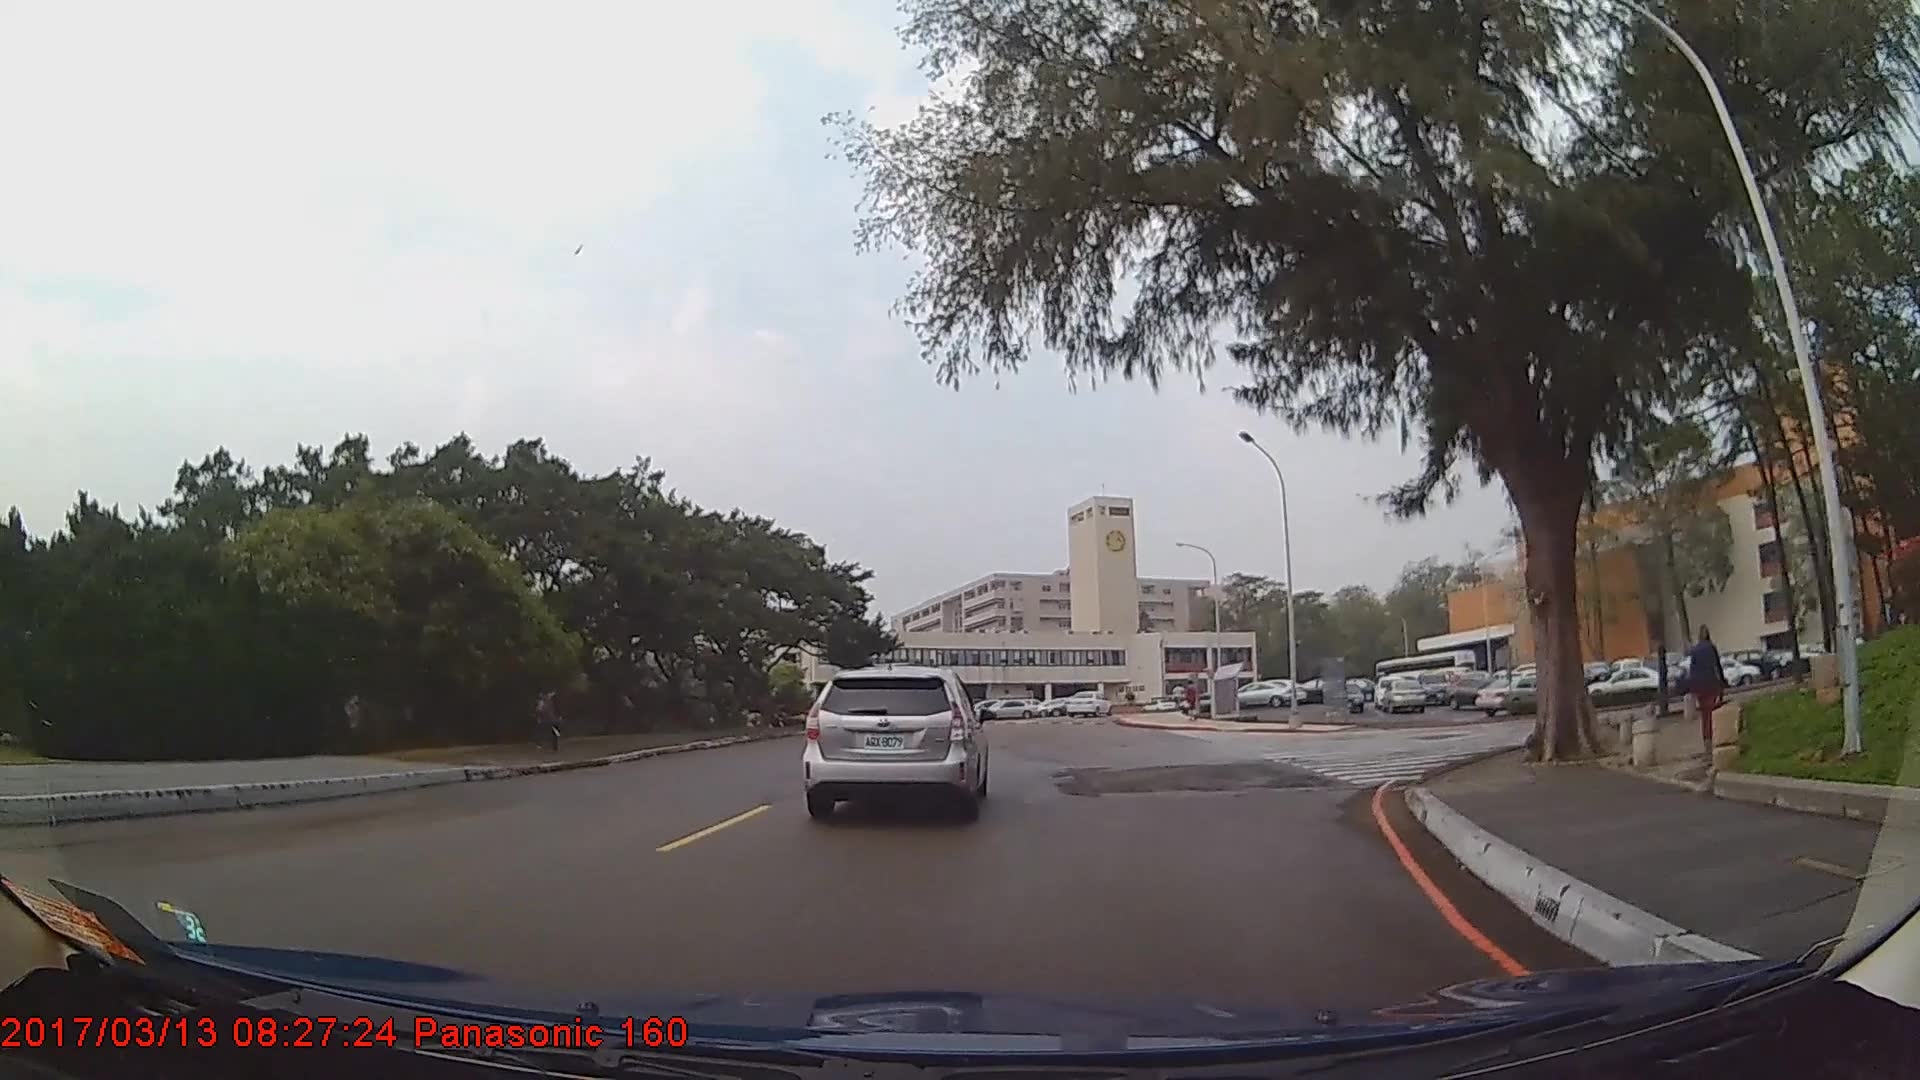pedestrian: (1687, 620, 1731, 752), (531, 675, 568, 751)
vehicle: (803, 664, 988, 820), (1472, 671, 1558, 715), (1584, 665, 1669, 700), (1441, 675, 1510, 711), (1227, 680, 1296, 705), (1062, 687, 1113, 718), (977, 695, 1042, 719), (1384, 676, 1427, 711), (1413, 670, 1452, 704), (1332, 684, 1365, 713)
